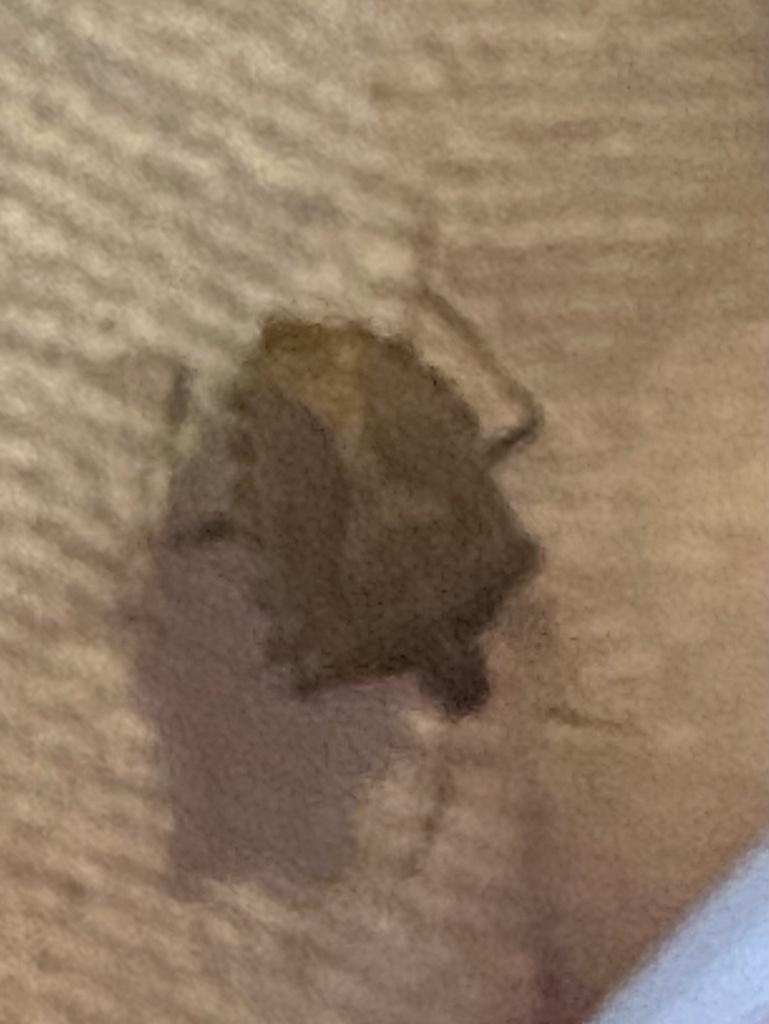stink_bugs: (87, 255, 673, 795)
